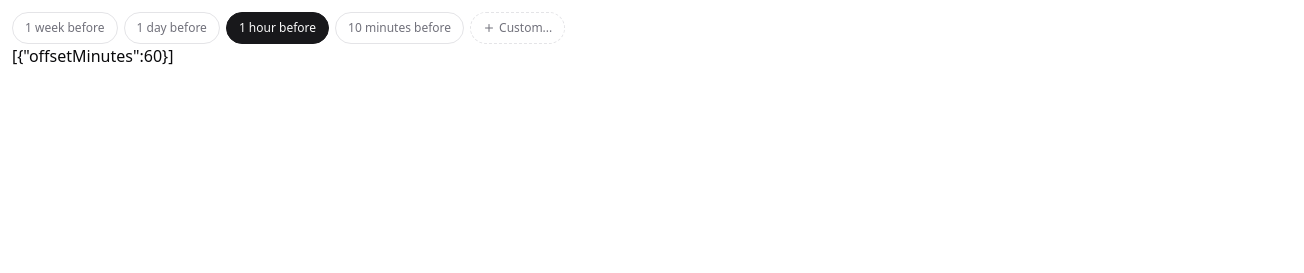
Test: TimerReminderChips › rejects a custom offset that is already selected
Click the button "Custom..." at (518, 28), box [470,12,565,44]
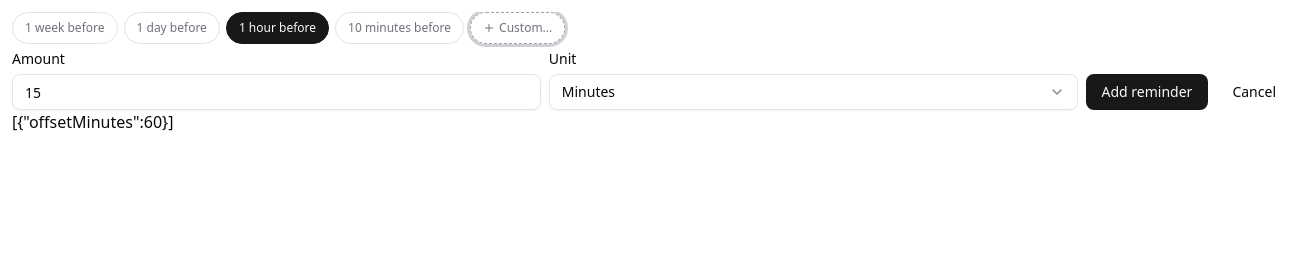
Replace the text in the number field labelled "Amount" with "1" at (276, 92), box [12,74,541,110]
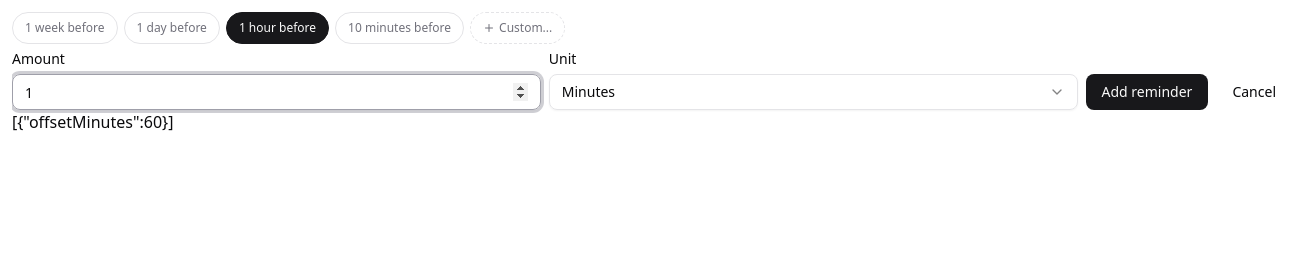
Click the dropdown named "Unit" at (588, 92), box [549,74,1078,110]
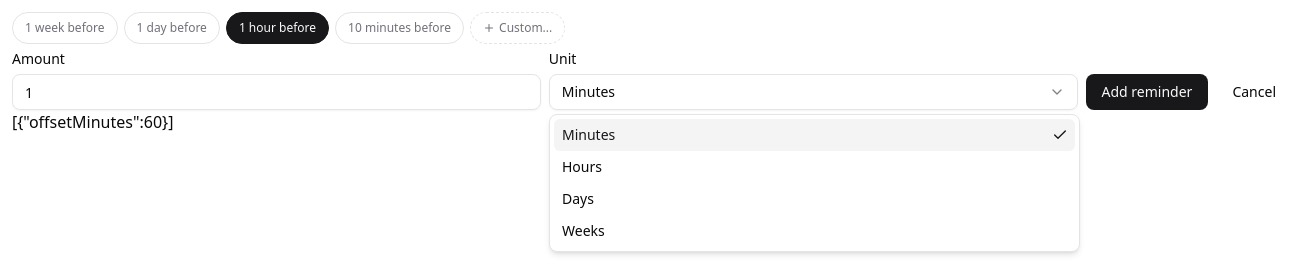
Click the option "Hours" at (582, 166), box [562,157,602,176]
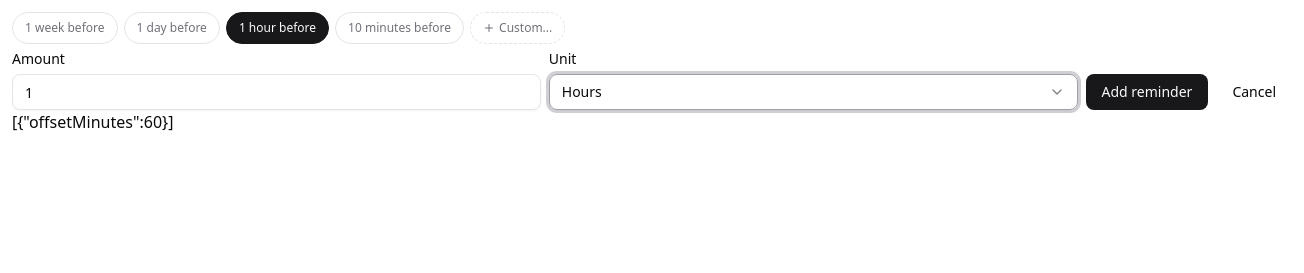
Click the button "Add reminder" at (1147, 92), box [1086,74,1208,110]
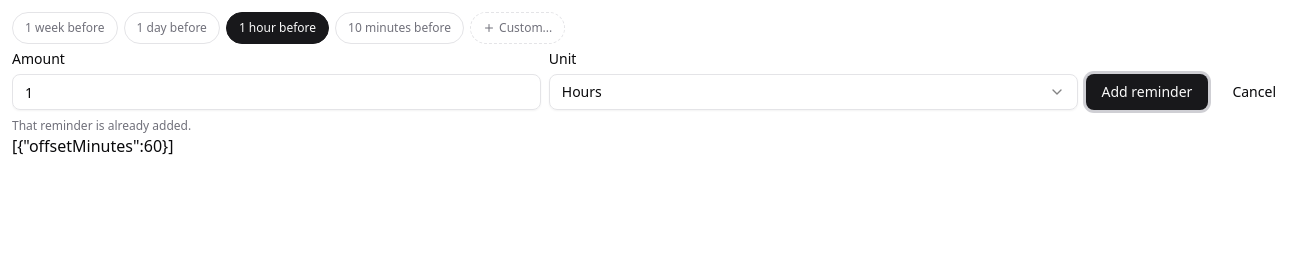
Now the text "That reminder is already added." is shown, box [12,117,191,134]
